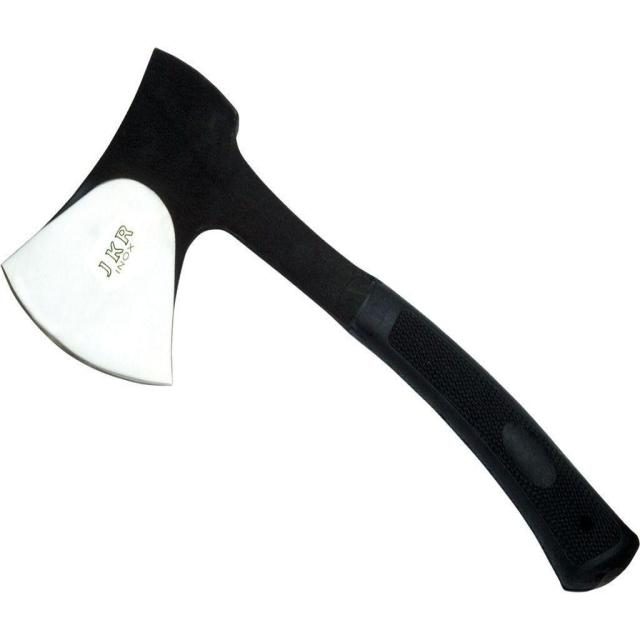Kapak: (26, 58, 625, 585)
